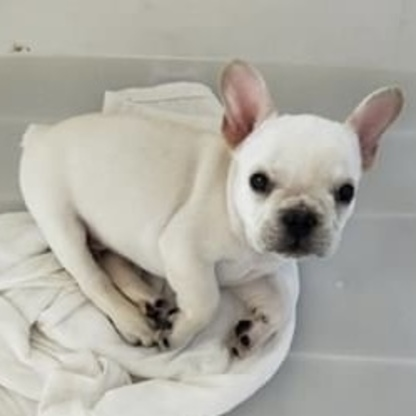bulldog: (15, 56, 406, 363)
